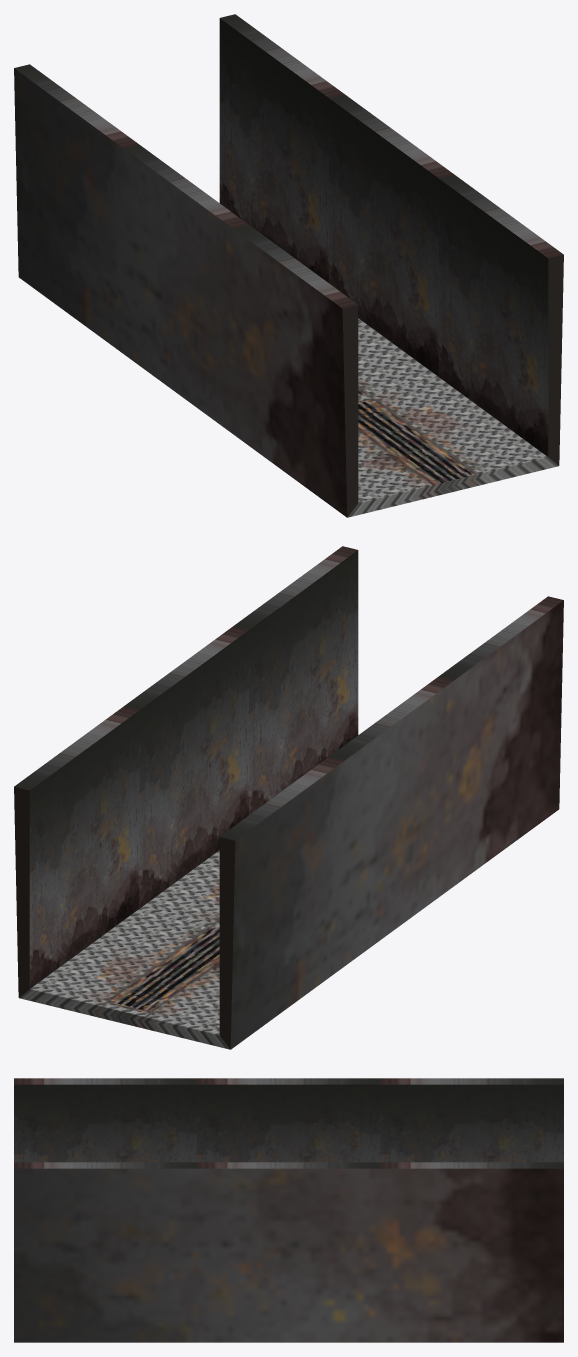
Rendered from Corridor.001.fbx.
The picture shows the model from 3 angles, top to bottom: view 1: azimuth 30°, elevation 25°; view 2: azimuth 150°, elevation 25°; view 3: azimuth 270°, elevation 25°; orthographic projection. The views are drawn at different scales.
Visible parts, largest first — view 1: Corridor.001; view 2: Corridor.001; view 3: Corridor.001.
Part boxes in pixels (bbox=[...]): Corridor.001: bbox=[14, 14, 563, 517]; Corridor.001: bbox=[14, 546, 563, 1049]; Corridor.001: bbox=[14, 1078, 563, 1342].
Bounding box in the file's own units: 700 × 635 × 1800.
